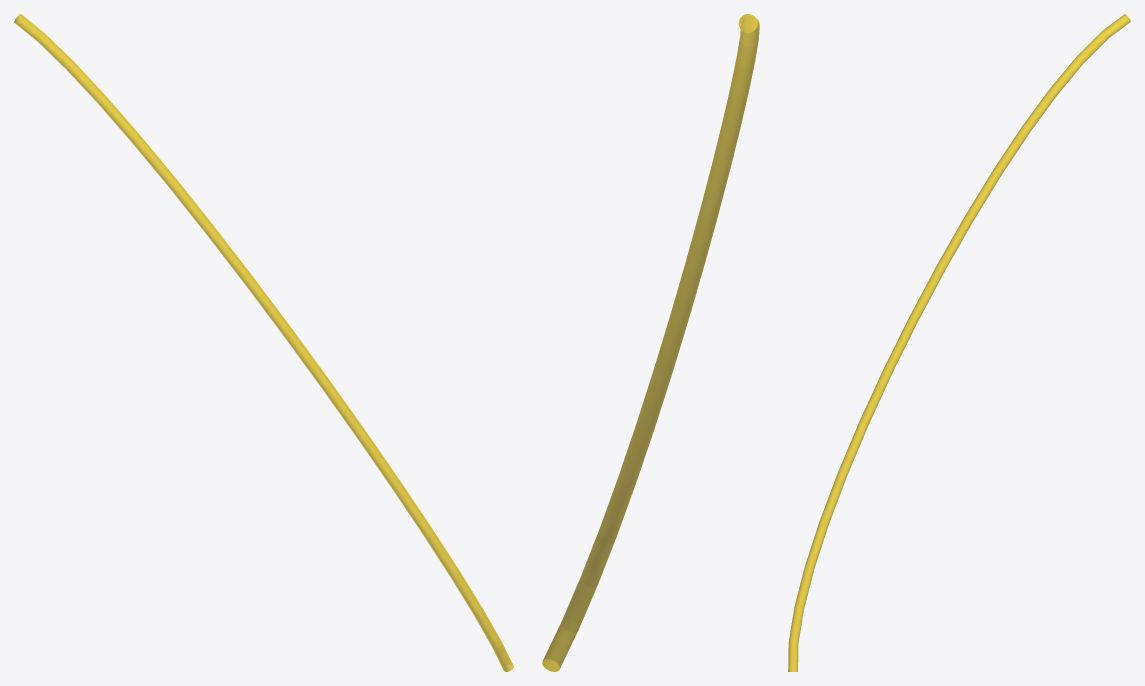
File: Event_100608114_track_0.fbx
3 renders of one model, left to right at view 1: azimuth 30°, elevation 25°; view 2: azimuth 150°, elevation 25°; view 3: azimuth 270°, elevation 25°, orthographic. The views are drawn at different scales.
Visible parts, largest first — view 1: Model; view 2: Model; view 3: Model.
Part boxes in pixels (x1,y1,x2,y2): Model: (14,14,513,671); Model: (542,14,759,671); Model: (788,14,1130,671).
Bounding box in the file's own units: 1.3 × 2.36 × 1.39.
